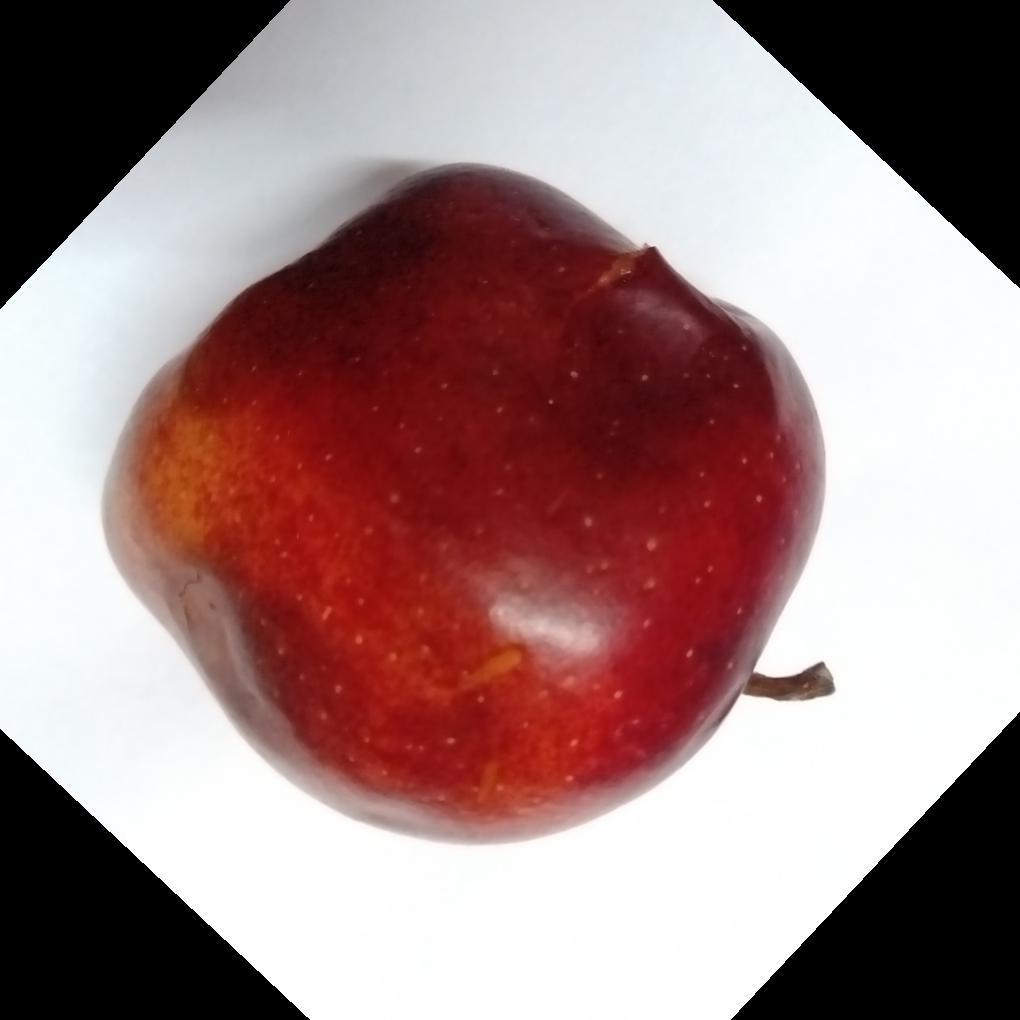FreshOrange: (101, 164, 827, 846)
